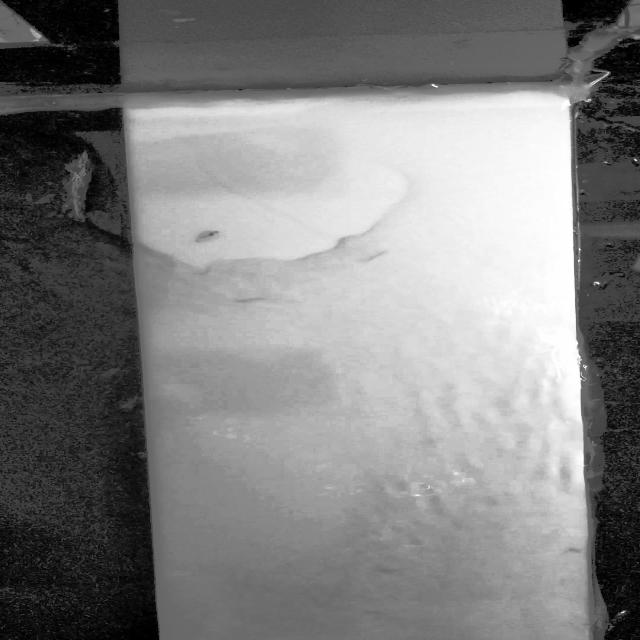shrimp: (194, 229, 228, 242), (362, 606, 393, 616), (376, 567, 409, 575)
